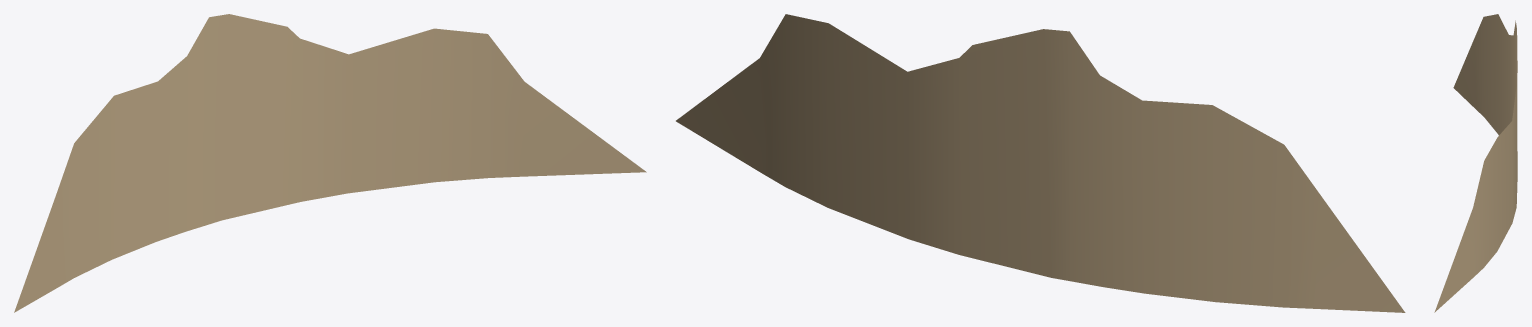
Rendered from background_6.fbx.
3 views of the same model, side by side, from view 1: azimuth 30°, elevation 25°; view 2: azimuth 150°, elevation 25°; view 3: azimuth 270°, elevation 25° (orthographic). The views are drawn at different scales.
Visible parts, largest first — view 1: SM_Env_BackgroundCard_03; view 2: SM_Env_BackgroundCard_03; view 3: SM_Env_BackgroundCard_03.
Boxes of the visible parts, x1,y1,x2,y2 form: SM_Env_BackgroundCard_03: (14, 14, 646, 312); SM_Env_BackgroundCard_03: (676, 14, 1405, 312); SM_Env_BackgroundCard_03: (1434, 14, 1517, 312).
Size of the model in its own units: 4501 by 1444 by 706.
Materials: 1 (1 with a texture image).
